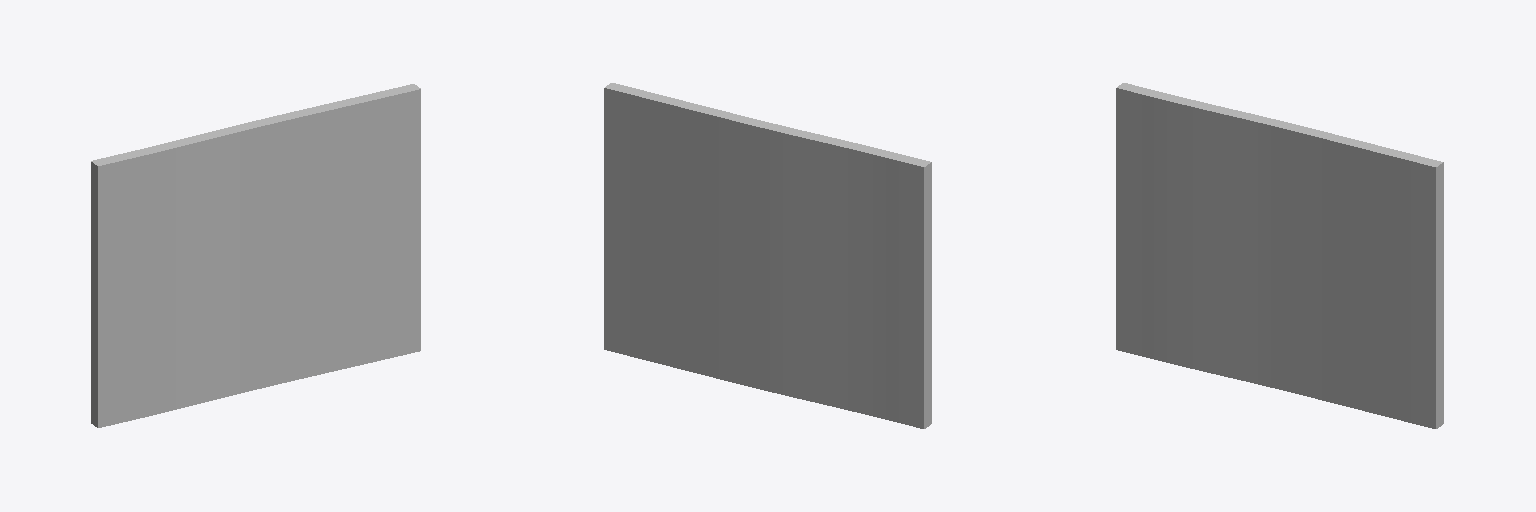
File: Done.obj
3 views of the same model, side by side, from view 1: azimuth 30°, elevation 25°; view 2: azimuth 150°, elevation 25°; view 3: azimuth 330°, elevation 25° (orthographic).
Parts seen in each view (by area): view 1: Cube; view 2: Cube; view 3: Cube.
Boxes of the visible parts, x1=… form: Cube: x1=91, y1=84, x2=420, y2=427; Cube: x1=604, y1=83, x2=931, y2=428; Cube: x1=1116, y1=83, x2=1443, y2=428.
Bounding box in the file's own units: 6.22 × 4.84 × 0.3013.